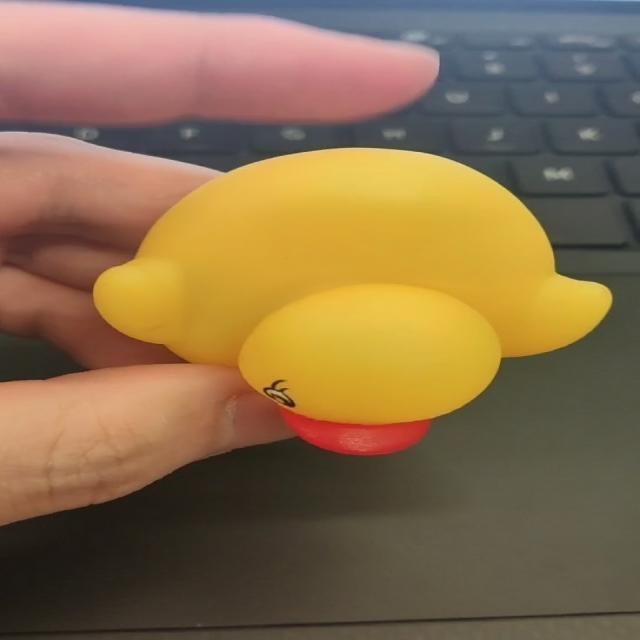rubber-duck: (93, 148, 610, 452)
